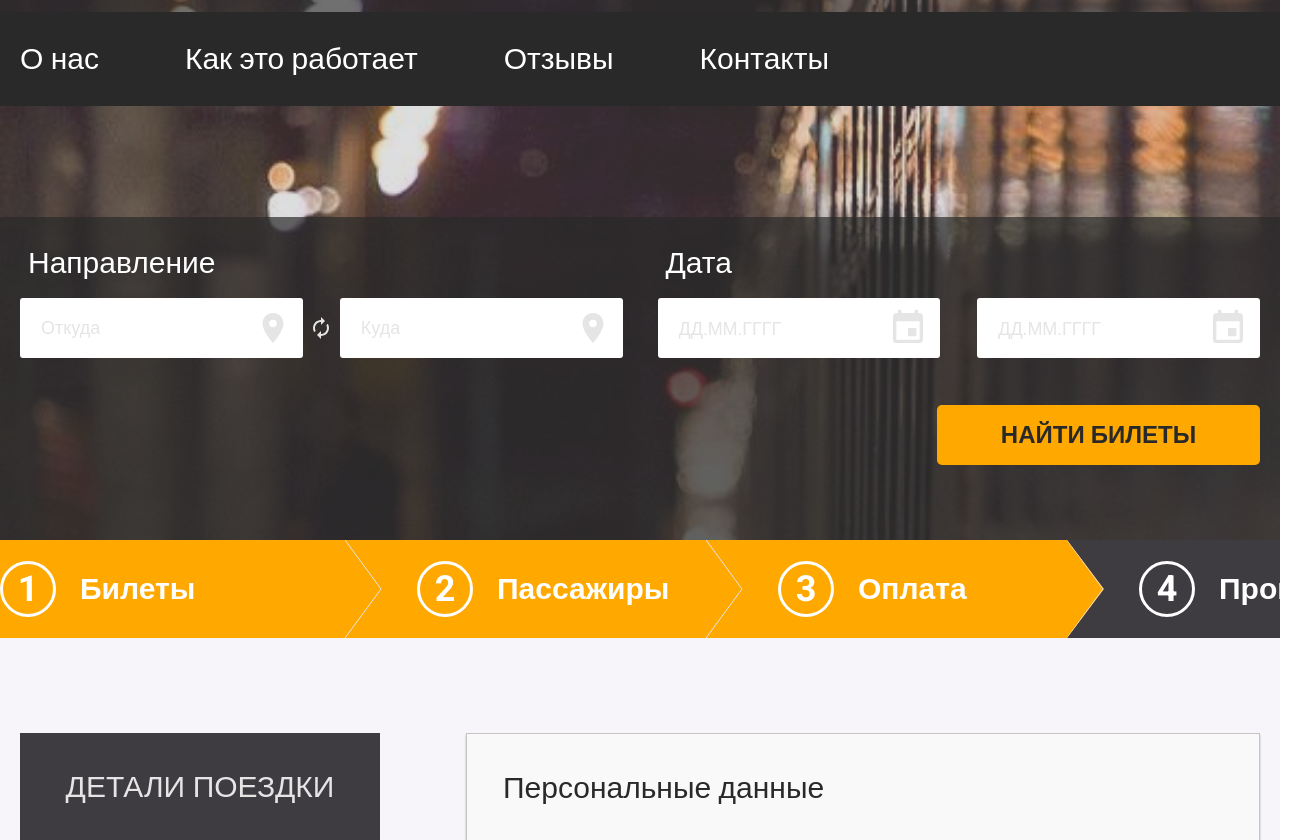
Test case: меню › секции главной открываются с внутренней страницы по якорю
Click the link "Как это работает".
click(301, 58)  # box [185,41,418,76]
(page scrolled)
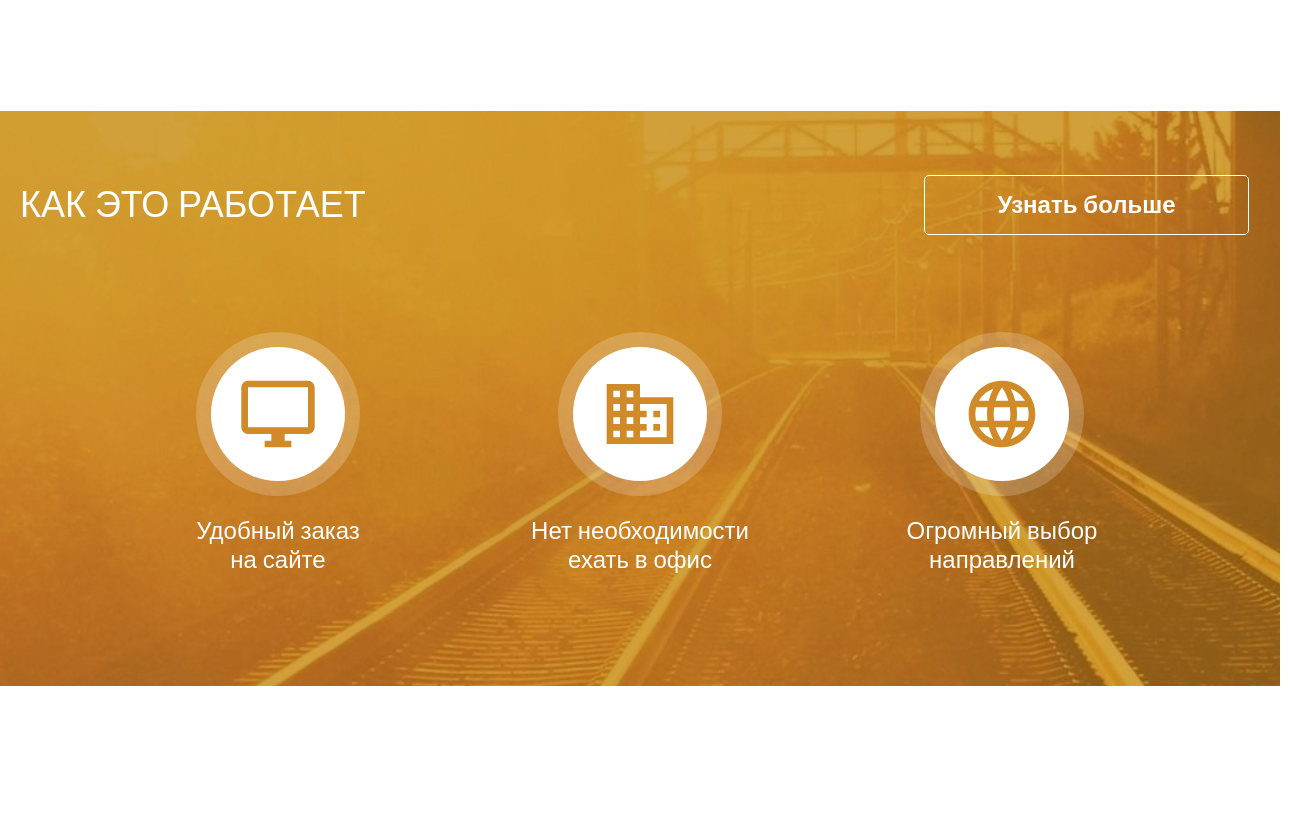
Expected: the element with id "how-it-works" is shown
